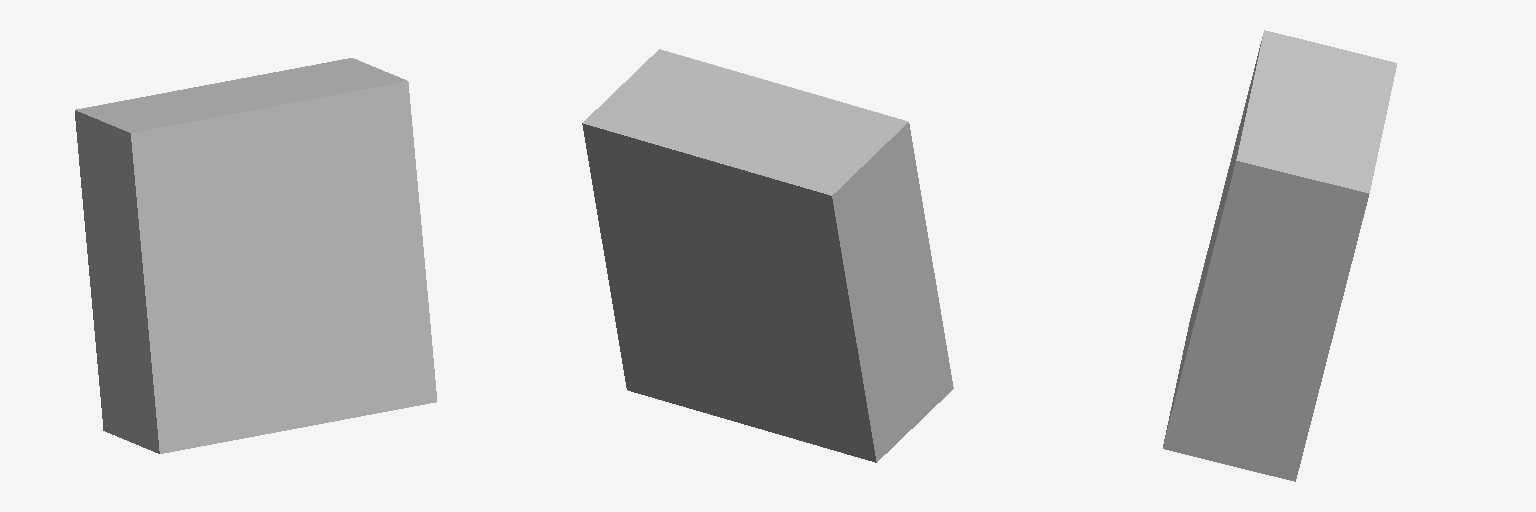
Rendered from cricket_reverselight_L.obj.
The picture shows the model from 3 angles: view 1: azimuth 30°, elevation 25°; view 2: azimuth 150°, elevation 25°; view 3: azimuth 270°, elevation 25°; orthographic projection.
Visible parts, largest first — view 1: Reverselight_L; view 2: Reverselight_L; view 3: Reverselight_L.
Part boxes in pixels (bbox=[...]): Reverselight_L: bbox=[75, 58, 436, 453]; Reverselight_L: bbox=[582, 49, 953, 462]; Reverselight_L: bbox=[1163, 30, 1396, 481].
Size of the model in its own units: 0.1199 by 0.1308 by 0.0866.